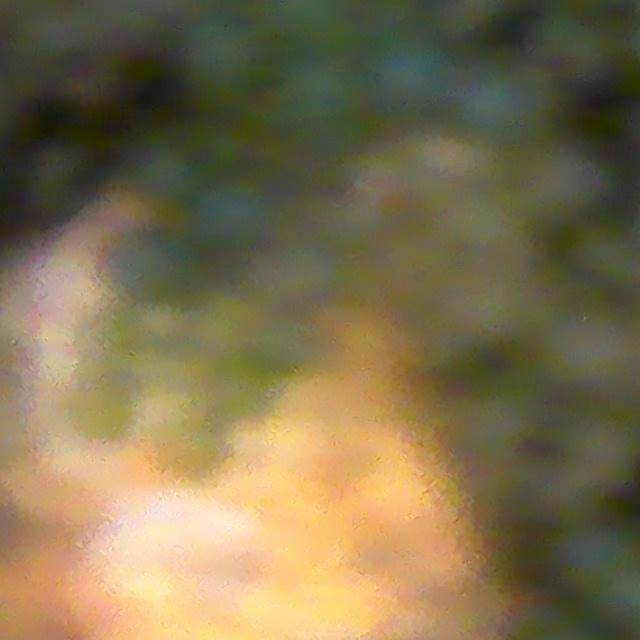SeaGrape: (370, 35, 452, 114), (194, 175, 271, 251), (283, 56, 363, 128)
